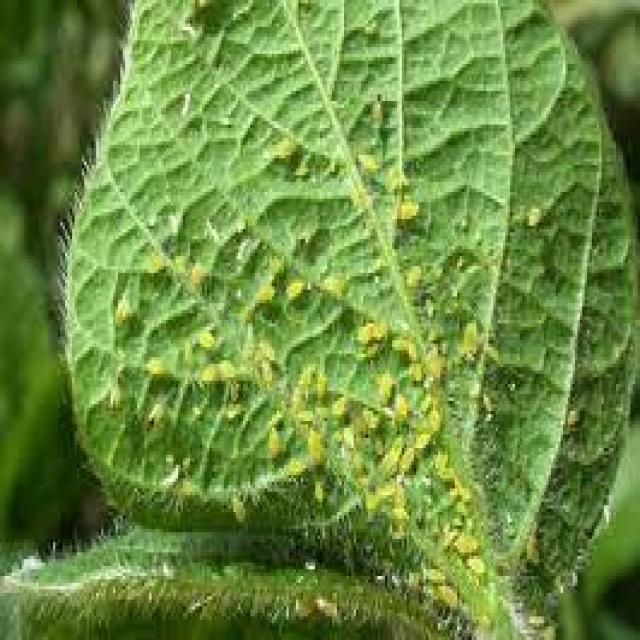aphid: (104, 286, 137, 334), (219, 482, 250, 529), (351, 310, 385, 350), (317, 263, 349, 303), (277, 266, 308, 307), (258, 408, 282, 458), (457, 310, 481, 360), (322, 381, 352, 421), (137, 344, 166, 384), (370, 360, 394, 408), (382, 320, 412, 357), (392, 188, 421, 226), (142, 239, 168, 280), (459, 546, 491, 579), (277, 448, 308, 482), (183, 246, 209, 286), (173, 330, 200, 367), (435, 576, 462, 613), (394, 434, 418, 475), (250, 270, 277, 306), (450, 525, 479, 556), (306, 468, 330, 505), (359, 478, 380, 519), (354, 142, 380, 175), (419, 556, 445, 589), (522, 195, 544, 232), (190, 320, 217, 350), (411, 421, 438, 451), (402, 252, 423, 290), (294, 401, 315, 424)
